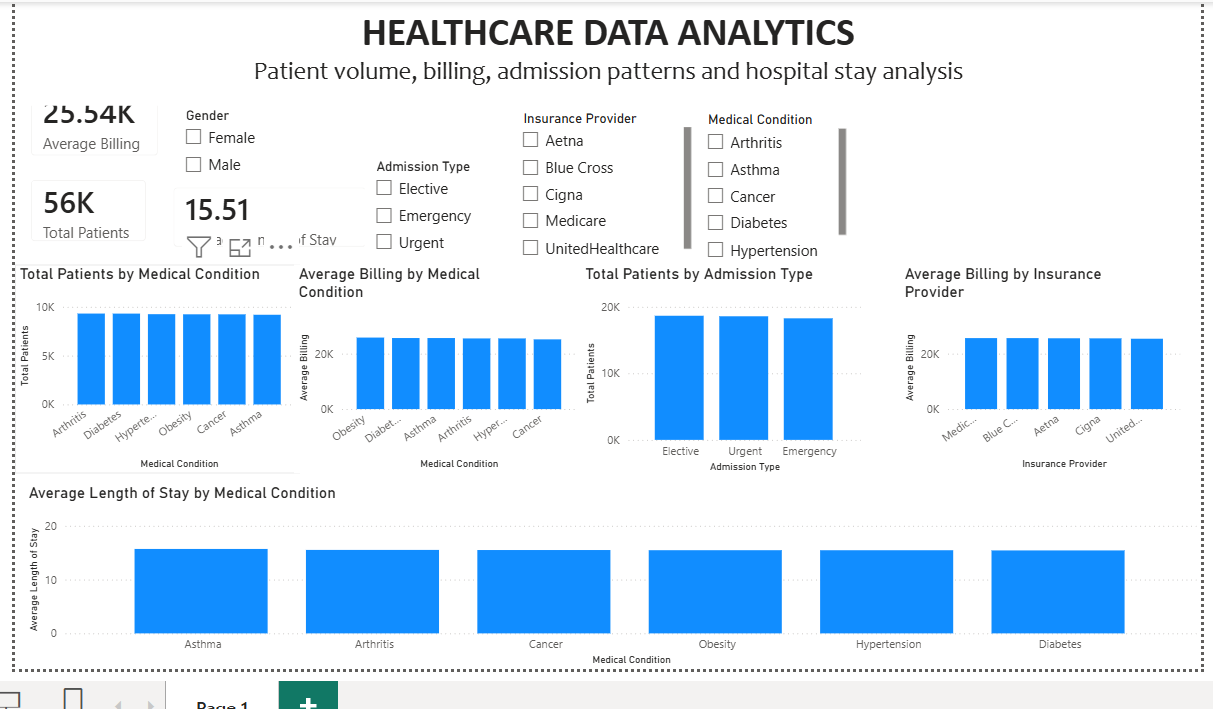

What the dashboard file says about the page in this screenshot:
{"tool":"powerbi","page":{"name":"Page 1","canvas":[1280,720],"ordinal":0},"visuals":[{"type":"cardVisual","fields":{"Data":["healthcare_dataset.Total Patients","healthcare_dataset.Total Patients"]},"box":[991.7,147,287.8,100.1],"z":0},{"type":"cardVisual","fields":{"Data":["healthcare_dataset.Average Length of Stay"]},"box":[308.1,153.3,312.8,98.5],"z":1000},{"type":"cardVisual","fields":{"Data":["healthcare_dataset.Total Billing"]},"box":[0,147,272.2,98.5],"z":2000},{"type":"cardVisual","fields":{"Data":["healthcare_dataset.Average Billing"]},"box":[639.7,153.3,330,93.8],"z":3000},{"type":"clusteredColumnChart","fields":{"Category":["healthcare_dataset.Medical Condition"],"Y":["healthcare_dataset.Total Patients"]},"box":[581.9,494.3,499,225.2],"z":4000},{"type":"clusteredColumnChart","fields":{"Category":["healthcare_dataset.Medical Condition"],"Y":["healthcare_dataset.Average Billing"]},"box":[844.6,270.6,383.2,201.8],"z":5000},{"type":"clusteredColumnChart","fields":{"Category":["healthcare_dataset.Admission Type"],"Y":["healthcare_dataset.Total Patients"]},"box":[21.9,516.2,427,181.4],"z":6000},{"type":"clusteredColumnChart","fields":{"Y":["healthcare_dataset.Average Billing"],"Category":["healthcare_dataset.Insurance Provider"]},"box":[448.9,270.6,383.2,209.6],"z":7000},{"type":"clusteredColumnChart","fields":{"Category":["healthcare_dataset.Medical Condition"],"Y":["healthcare_dataset.Average Length of Stay"]},"box":[0,253.4,448.9,226.8],"z":8000},{"type":"textbox","box":[0,0,581.9,92.3],"z":9000},{"type":"slicer","fields":{"Values":["healthcare_dataset.Admission Type"]},"box":[0,97,217.4,32.8],"z":10000},{"type":"slicer","fields":{"Values":["healthcare_dataset.Medical Condition"]},"box":[692.9,95.4,259.6,36],"z":11000},{"type":"slicer","fields":{"Values":["healthcare_dataset.Insurance Provider"]},"box":[308.1,92.3,281.5,36],"z":12000},{"type":"slicer","fields":{"Values":["healthcare_dataset.Gender"]},"box":[1021.4,92.3,258.1,32.8],"z":13000}]}

Visuals, with their boxes on the page's 1280x720 design canvas (x1, y1, x2, y2). These are canvas units, not pixel positions in the 1213x709 screenshot, which may show the page scaled, cropped or inside an application window:
cardVisual - healthcare_dataset.Total Patients x healthcare_dataset.Total Patients: {"x1": 992, "y1": 147, "x2": 1280, "y2": 247}
cardVisual - healthcare_dataset.Average Length of Stay: {"x1": 308, "y1": 153, "x2": 621, "y2": 252}
cardVisual - healthcare_dataset.Total Billing: {"x1": 0, "y1": 147, "x2": 272, "y2": 246}
cardVisual - healthcare_dataset.Average Billing: {"x1": 640, "y1": 153, "x2": 970, "y2": 247}
clusteredColumnChart - healthcare_dataset.Medical Condition x healthcare_dataset.Total Patients: {"x1": 582, "y1": 494, "x2": 1081, "y2": 720}
clusteredColumnChart - healthcare_dataset.Medical Condition x healthcare_dataset.Average Billing: {"x1": 845, "y1": 271, "x2": 1228, "y2": 472}
clusteredColumnChart - healthcare_dataset.Admission Type x healthcare_dataset.Total Patients: {"x1": 22, "y1": 516, "x2": 449, "y2": 698}
clusteredColumnChart - healthcare_dataset.Average Billing x healthcare_dataset.Insurance Provider: {"x1": 449, "y1": 271, "x2": 832, "y2": 480}
clusteredColumnChart - healthcare_dataset.Medical Condition x healthcare_dataset.Average Length of Stay: {"x1": 0, "y1": 253, "x2": 449, "y2": 480}
textbox: {"x1": 0, "y1": 0, "x2": 582, "y2": 92}
slicer - healthcare_dataset.Admission Type: {"x1": 0, "y1": 97, "x2": 217, "y2": 130}
slicer - healthcare_dataset.Medical Condition: {"x1": 693, "y1": 95, "x2": 952, "y2": 131}
slicer - healthcare_dataset.Insurance Provider: {"x1": 308, "y1": 92, "x2": 590, "y2": 128}
slicer - healthcare_dataset.Gender: {"x1": 1021, "y1": 92, "x2": 1280, "y2": 125}
